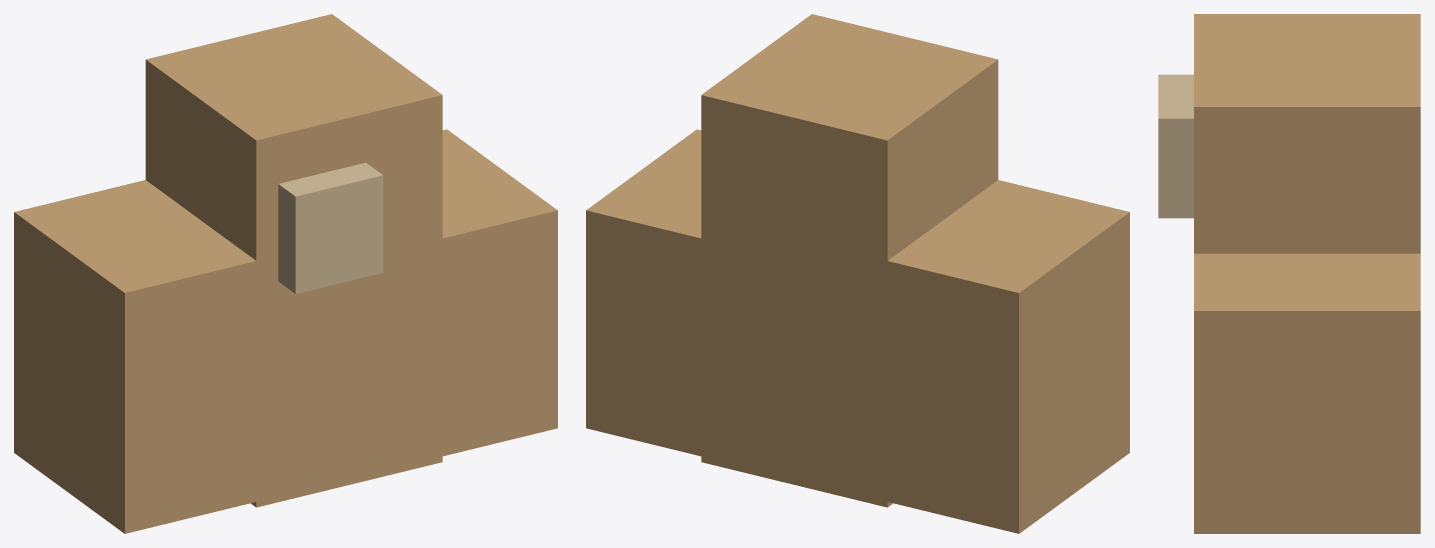
File: dye_orange.glb
3 renders of one model, left to right at view 1: azimuth 30°, elevation 25°; view 2: azimuth 150°, elevation 25°; view 3: azimuth 270°, elevation 25°, orthographic. The views are drawn at different scales.
Parts seen in each view (by area): view 1: dye_orange; view 2: dye_orange; view 3: dye_orange.
Boxes of the visible parts, x1,y1,x2,y2 form: dye_orange: (14,14,557,533); dye_orange: (586,14,1129,533); dye_orange: (1158,14,1420,533).
Size of the model in its own units: 0.79 by 0.64 by 0.405.
